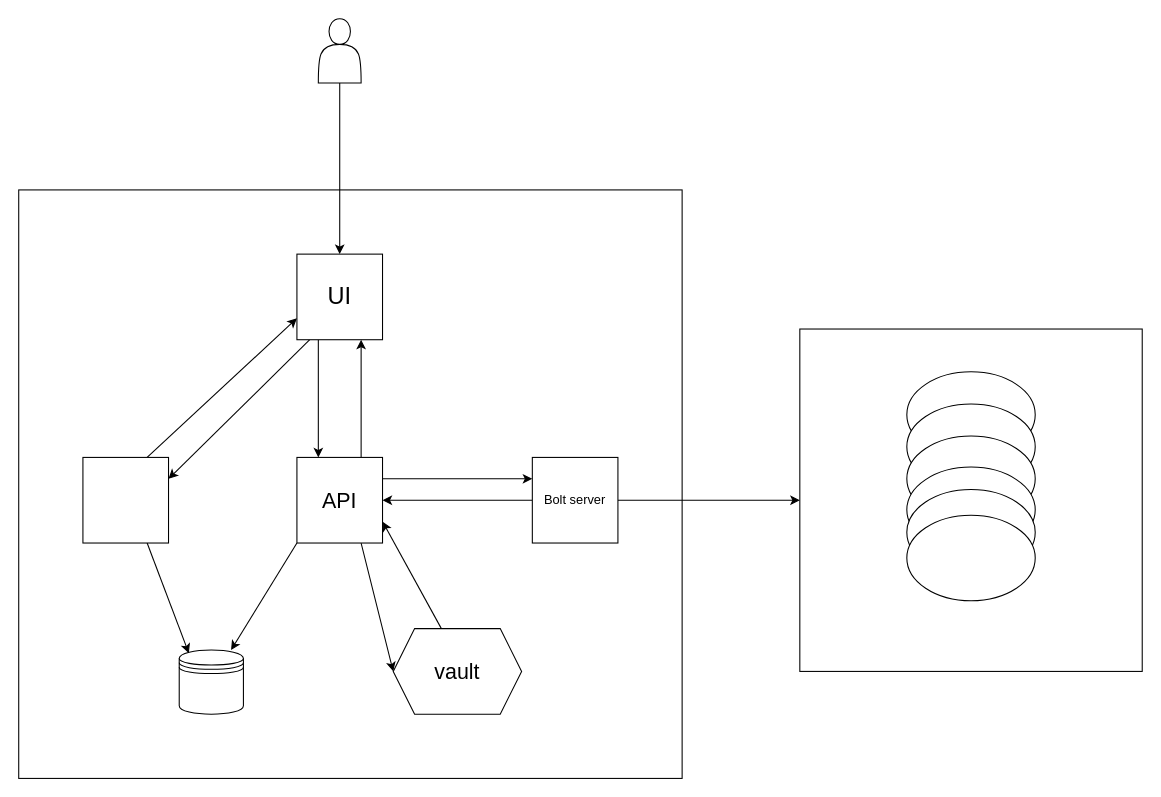
The diagram is 1161 pixels wide and 797 high, and some of its shapes have lost their labels. Here are the shapes that lost their labels. From the top down, the centre of each, then its label:
At [125,499]: "graphQL".
At [210,681]: "psql".
